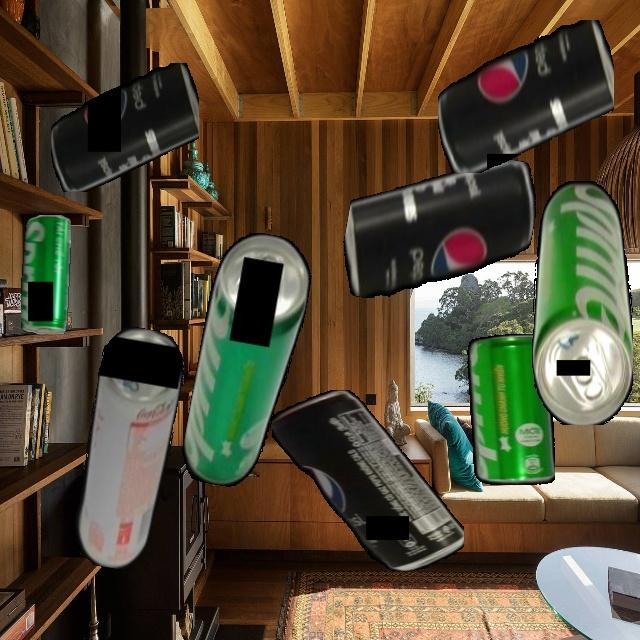debris: (335, 134, 544, 324), (178, 227, 317, 494), (271, 390, 464, 571), (66, 323, 190, 574), (437, 19, 614, 173), (531, 179, 633, 425), (50, 62, 199, 192), (466, 334, 555, 485), (20, 215, 71, 334)
